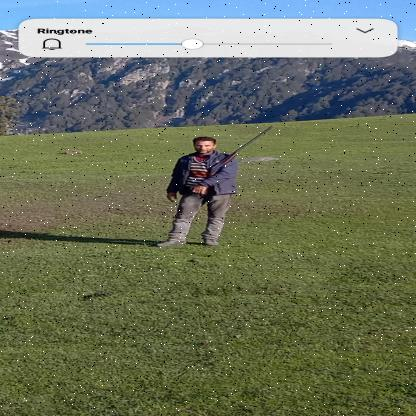rifle: (190, 126, 275, 196)
